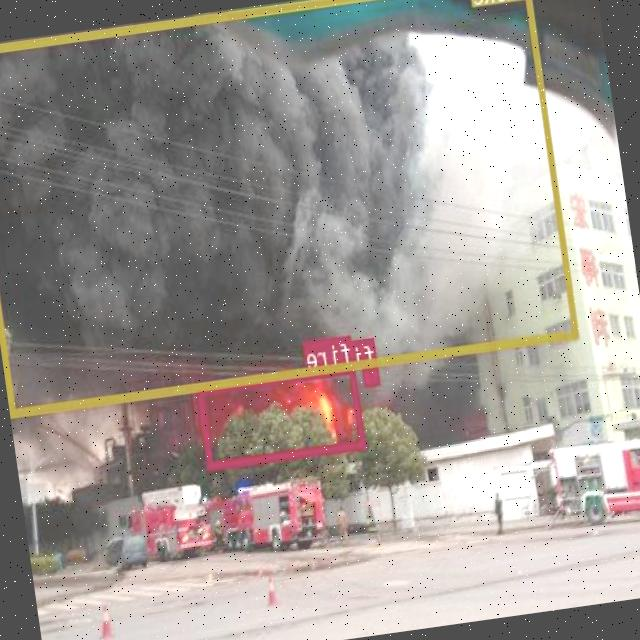fire: (198, 364, 367, 468), (364, 366, 382, 385)
smoke: (0, 0, 581, 414)
